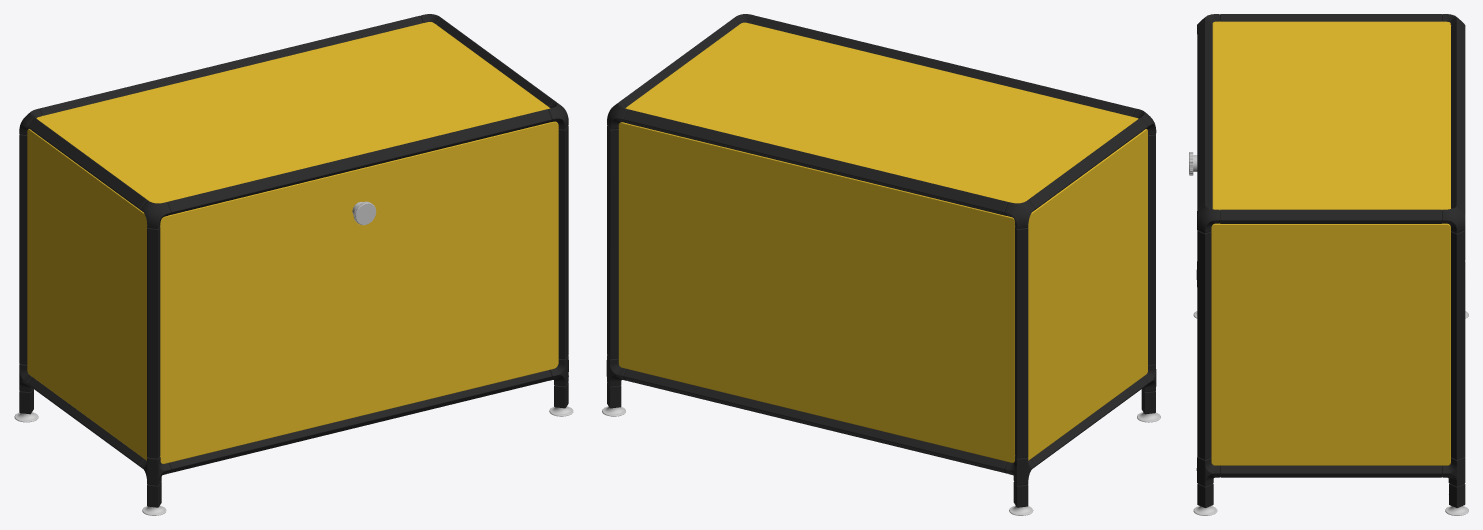
The picture shows the model from 3 angles, left to right: view 1: azimuth 30°, elevation 25°; view 2: azimuth 150°, elevation 25°; view 3: azimuth 270°, elevation 25°; orthographic projection.
Visible parts, largest first — view 1: 729x374x375; view 2: 729x374x375; view 3: 729x374x375.
Part boxes in pixels (x1,y1,x2,y2): 729x374x375: [14, 14, 573, 515]; 729x374x375: [602, 14, 1160, 515]; 729x374x375: [1189, 14, 1468, 515].
Bounding box in the file's own units: 0.8189 × 0.5591 × 0.4709.
